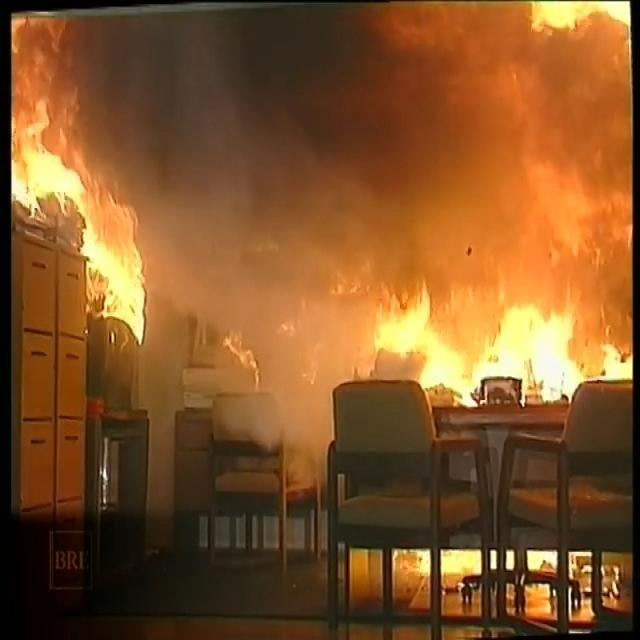Fire: (10, 17, 640, 390)
